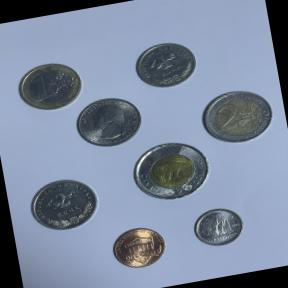coin: (124, 133, 218, 210), (22, 168, 108, 242), (195, 81, 280, 151), (11, 55, 86, 116), (72, 92, 146, 152), (106, 220, 171, 274), (188, 202, 249, 252)
